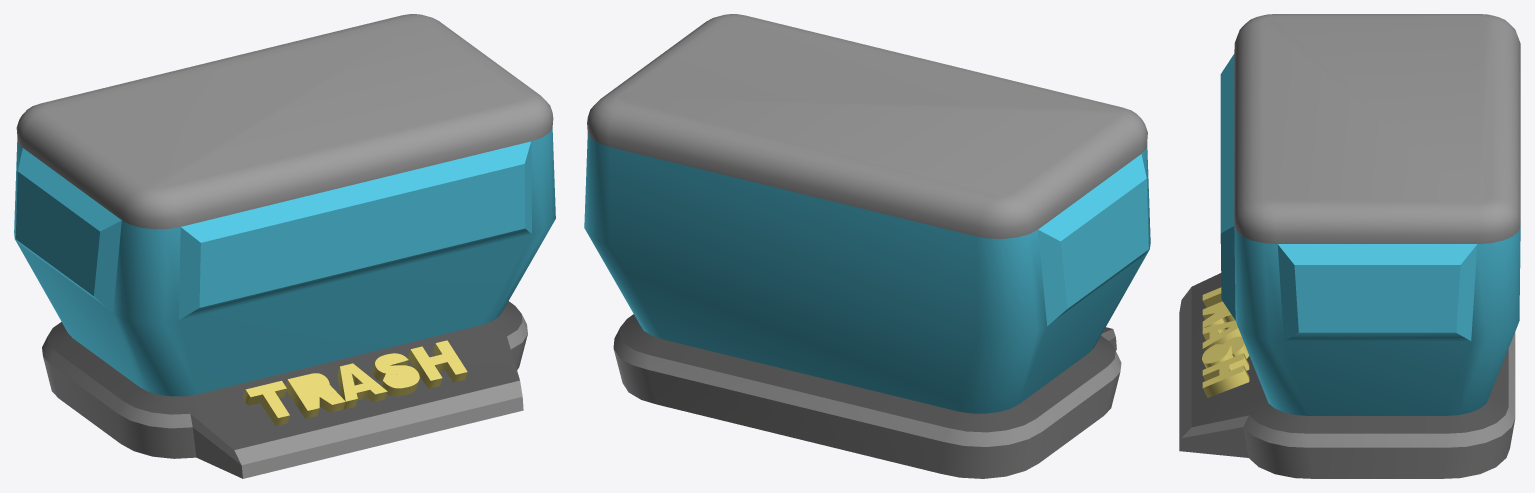
Rendered from copKutu.fbx.
The picture shows the model from 3 angles, left to right: view 1: azimuth 30°, elevation 25°; view 2: azimuth 150°, elevation 25°; view 3: azimuth 270°, elevation 25°; orthographic projection. The views are drawn at different scales.
Parts seen in each view (by area): view 1: govde, kapak, Text; view 2: govde, kapak; view 3: govde, kapak, Text.
Part boxes in pixels (x1,y1,x2,y2): govde: (14,128,555,478); kapak: (16,14,553,229); Text: (243,340,467,425); govde: (584,133,1150,478); kapak: (587,14,1147,238); govde: (1179,54,1520,478); kapak: (1234,14,1520,243); Text: (1202,287,1249,397).
Size of the model in its own units: 362 by 204 by 231.
